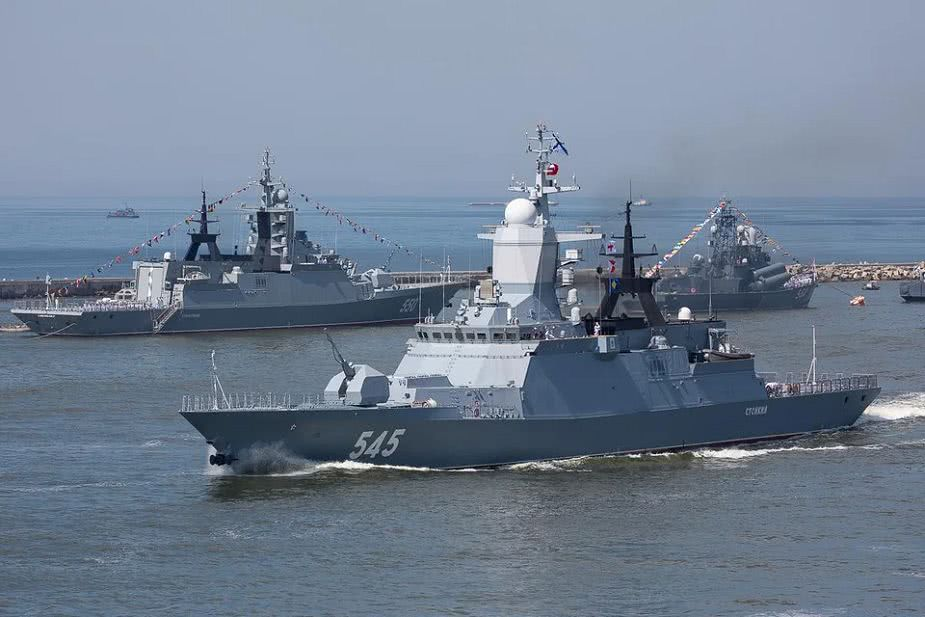warship: (172, 125, 903, 485), (17, 157, 467, 342), (611, 190, 850, 315)
